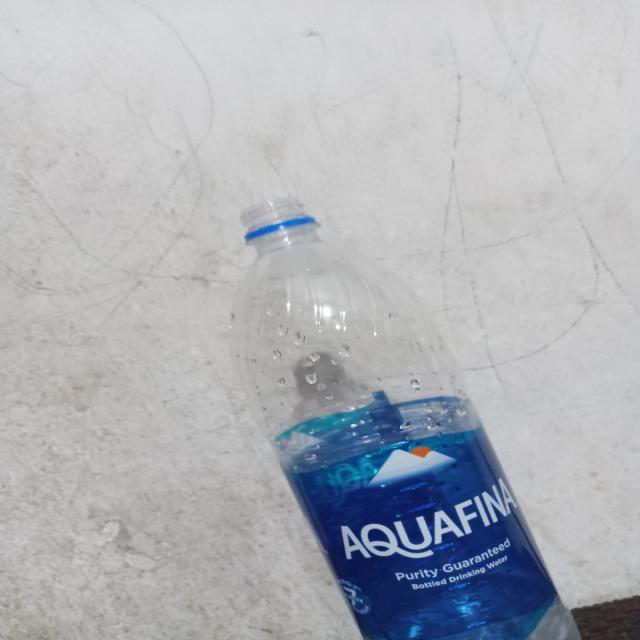bottle: (220, 165, 588, 640)
label: (259, 386, 564, 640)
